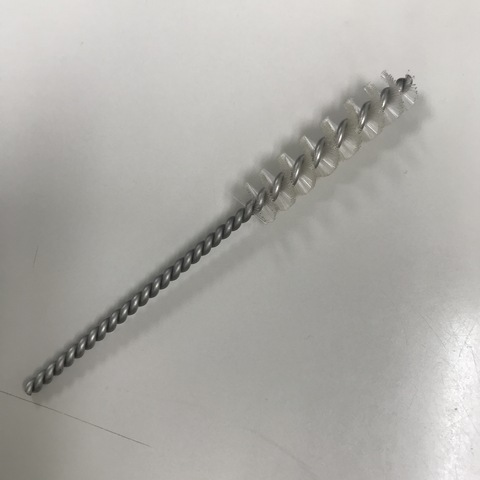Twist Brush-B: (18, 65, 429, 399)
